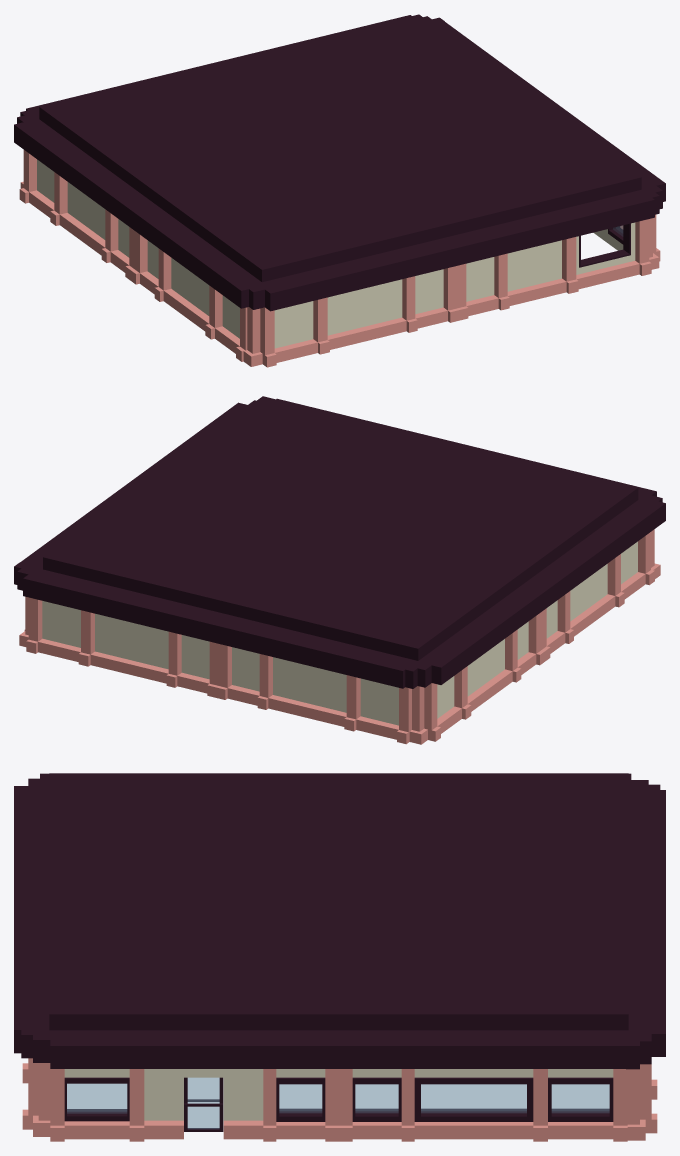
File: NewGasStation.fbx
3 views of the same model, one above another, from view 1: azimuth 30°, elevation 25°; view 2: azimuth 150°, elevation 25°; view 3: azimuth 270°, elevation 25° (orthographic). The views are drawn at different scales.
Parts seen in each view (by area): view 1: Roof, Wall.001, Wall, FRONT, Wall.002; view 2: Roof, Wall.002, Wall, FRONT, Wall.001; view 3: Roof, FRONT, Wall.002, Wall.001, Door.
Part boxes in pixels (<box>): Roof: <box>39,14,641,282</box>; Wall.001: <box>236,190,654,367</box>; Wall: <box>14,110,259,361</box>; FRONT: <box>433,21,665,269</box>; Wall.002: <box>26,15,444,116</box>; Roof: <box>43,396,638,660</box>; Wall.002: <box>14,562,415,744</box>; Wall: <box>404,501,660,744</box>; FRONT: <box>20,400,256,630</box>; Wall.001: <box>276,398,665,578</box>; Roof: <box>49,773,628,1030</box>; FRONT: <box>21,1029,627,1141</box>; Wall.002: <box>626,790,665,1140</box>; Wall.001: <box>14,773,49,1129</box>; Door: <box>184,1077,223,1131</box>.
Bounding box in the file's own units: 1116 × 254 × 1129.
